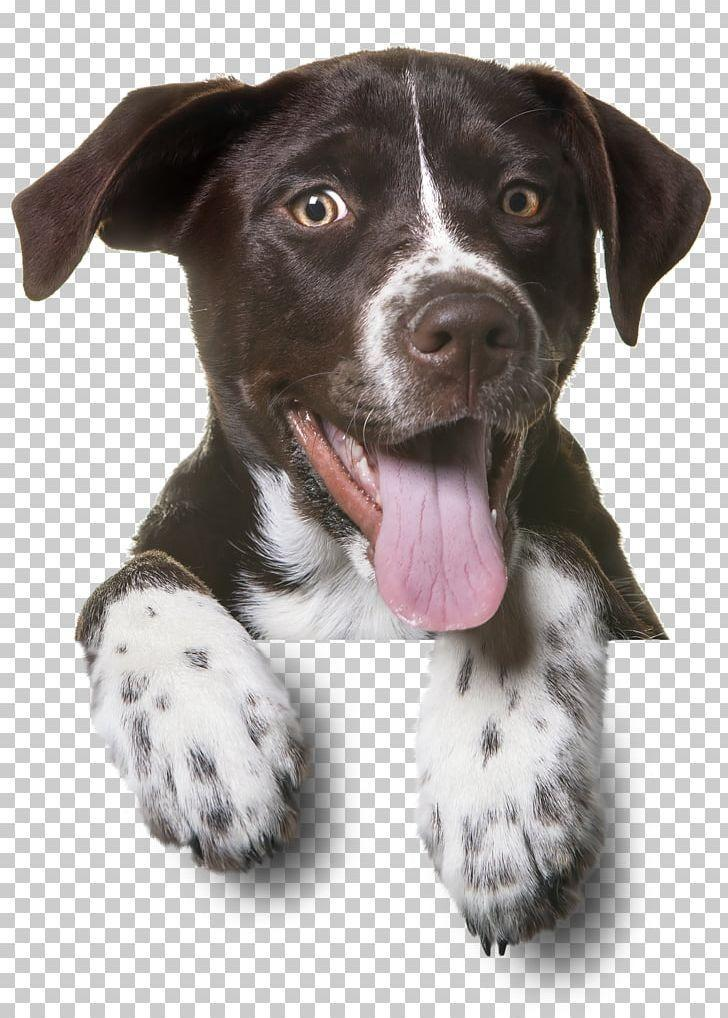puppy-dog: (10, 41, 714, 961)
